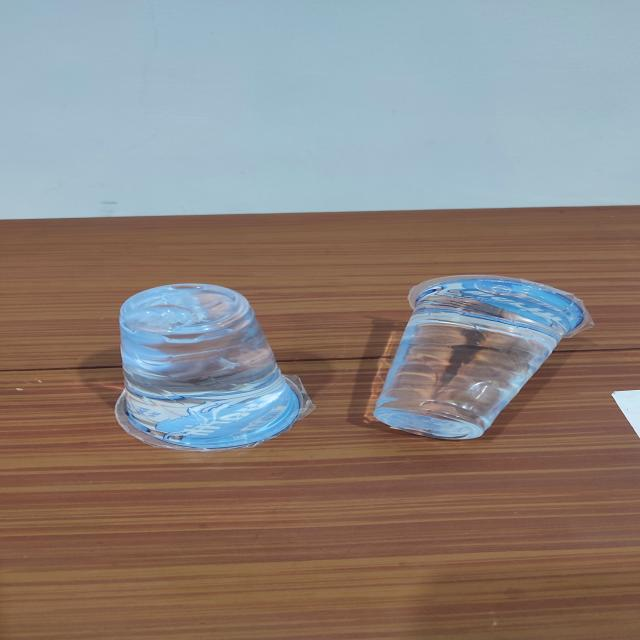air gelas: (359, 273, 597, 448), (98, 277, 324, 459)
